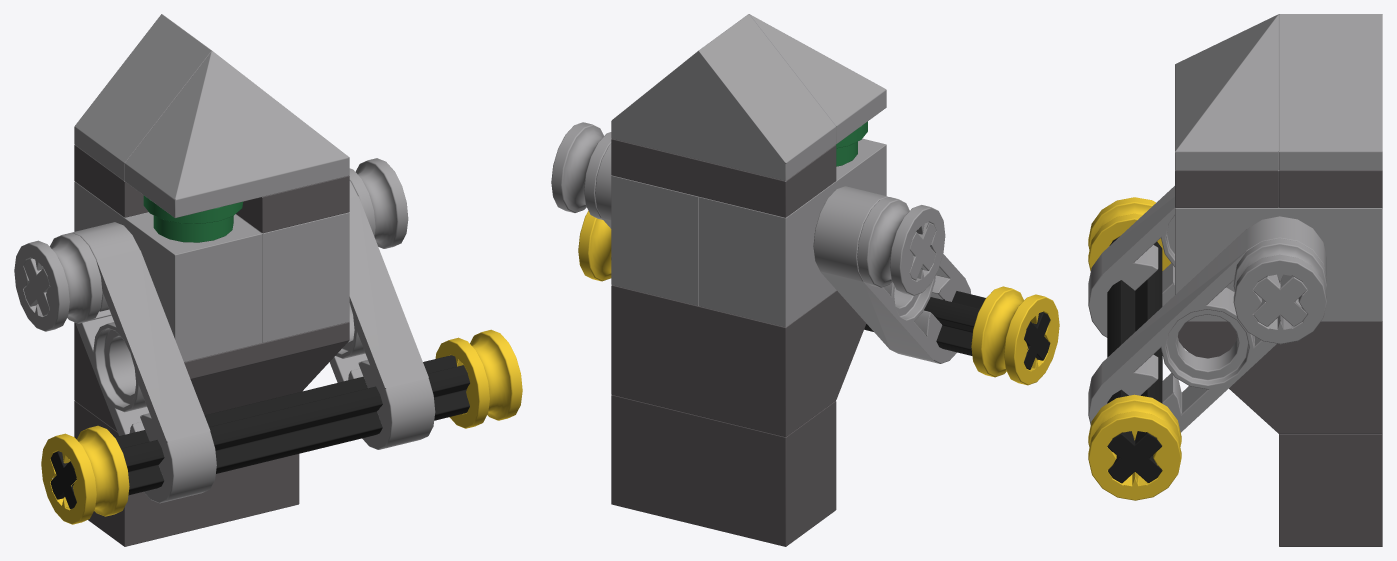
File: switch.fbx
3 renders of one model, left to right at view 1: azimuth 30°, elevation 25°; view 2: azimuth 150°, elevation 25°; view 3: azimuth 270°, elevation 25°, orthographic. The views are drawn at different scales.
Parts seen in each view (by area): view 1: 00010_3023.dat, 00004_32073.dat, 00010_3023.dat.001; view 2: 00010_3023.dat, 00004_32073.dat, 00010_3023.dat.001; view 3: 00010_3023.dat, 00004_32073.dat.
Boxes of the visible parts, x1,y1,x2,y2 form: 00010_3023.dat: [74, 14, 349, 546]; 00004_32073.dat: [14, 158, 522, 524]; 00010_3023.dat.001: [143, 195, 242, 242]; 00010_3023.dat: [611, 14, 886, 546]; 00004_32073.dat: [551, 122, 1059, 385]; 00010_3023.dat.001: [836, 121, 867, 166]; 00010_3023.dat: [1175, 14, 1382, 546]; 00004_32073.dat: [1088, 186, 1326, 500].
Bounding box in the file's own units: 1 × 1.04 × 0.5673.
